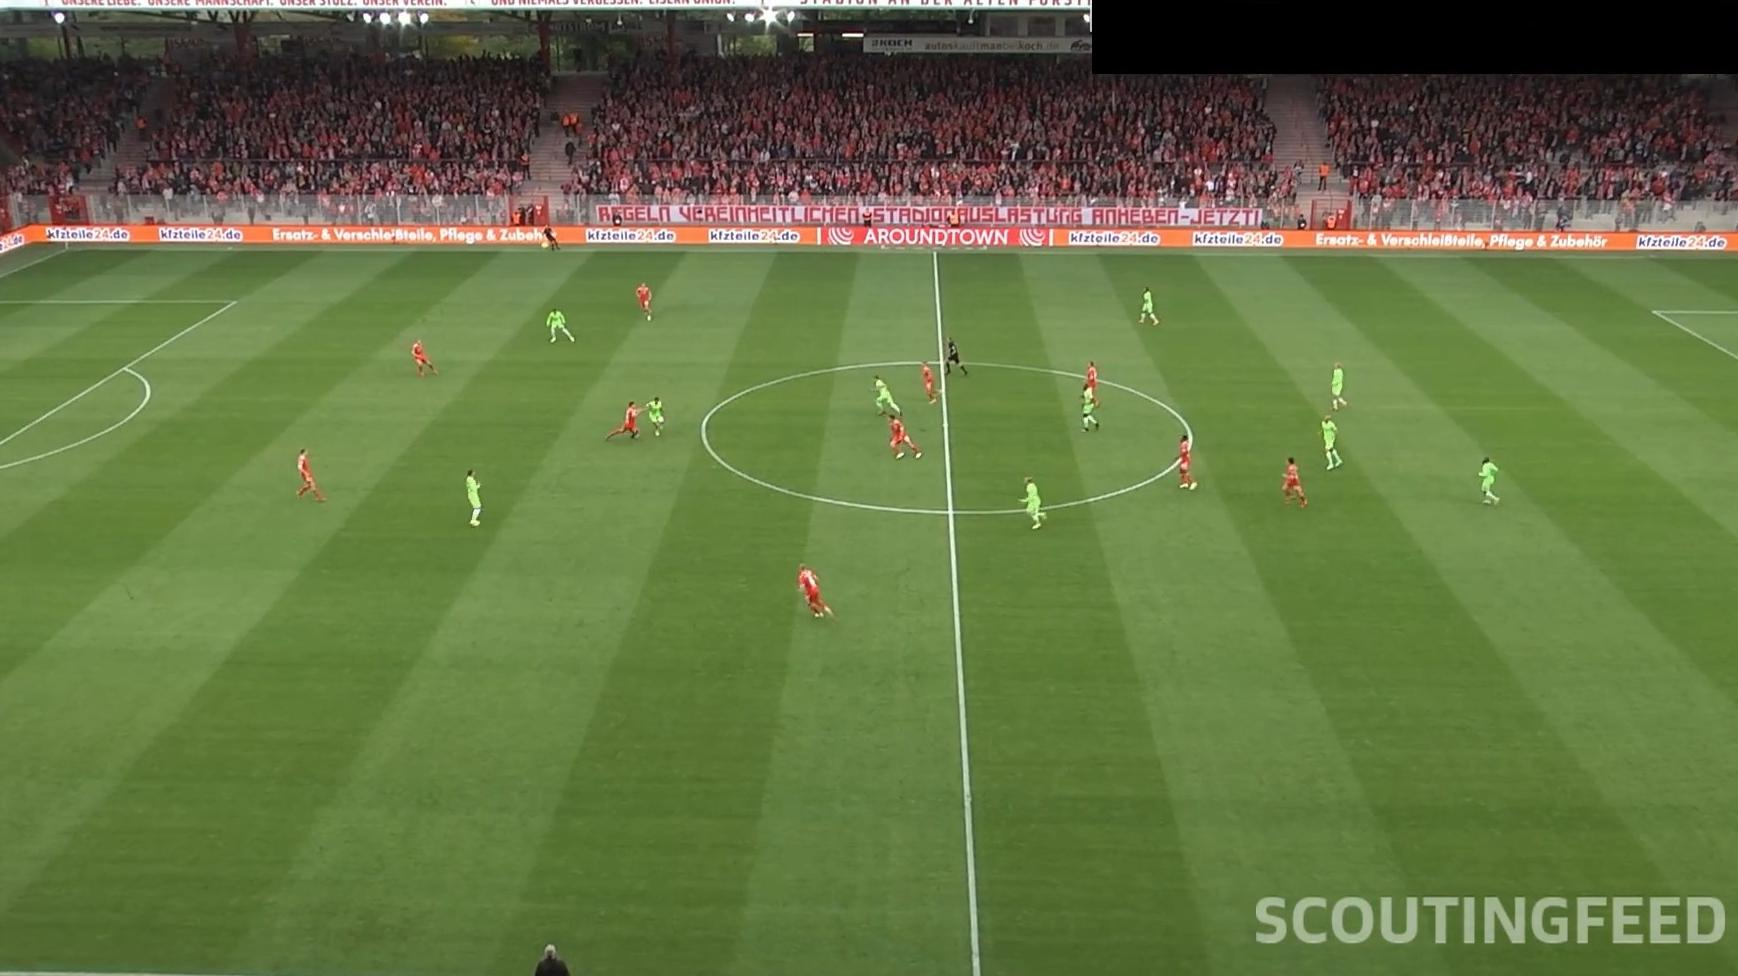ball: (657, 415, 665, 424)
